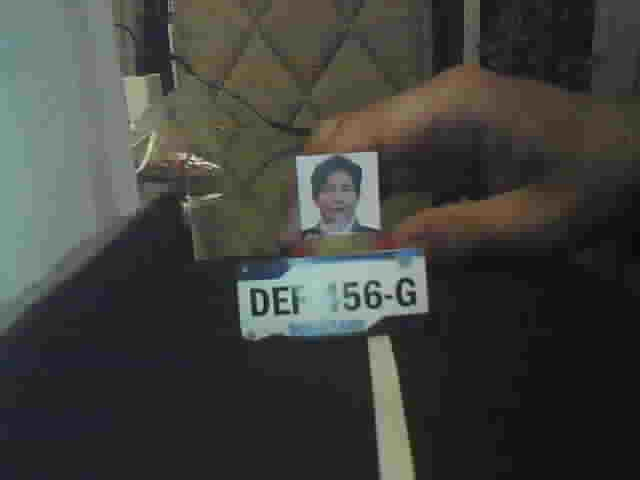PLACA: (234, 247, 434, 343)
ROSTRO: (293, 150, 382, 238)
